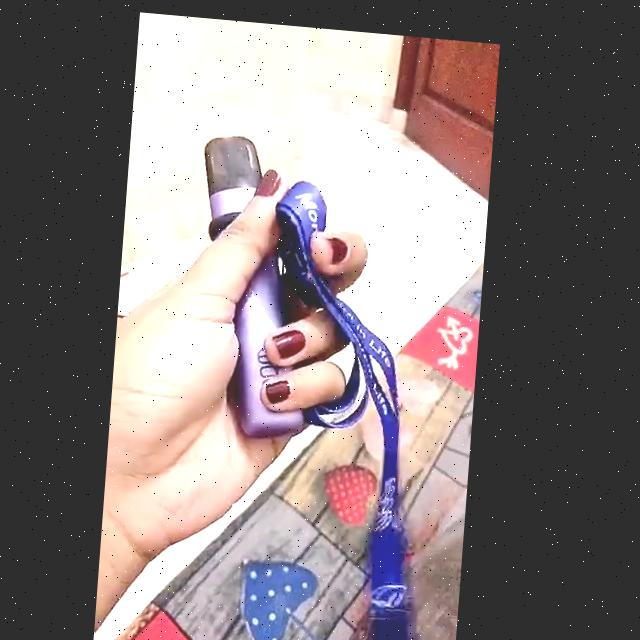vape: (189, 126, 330, 436)
